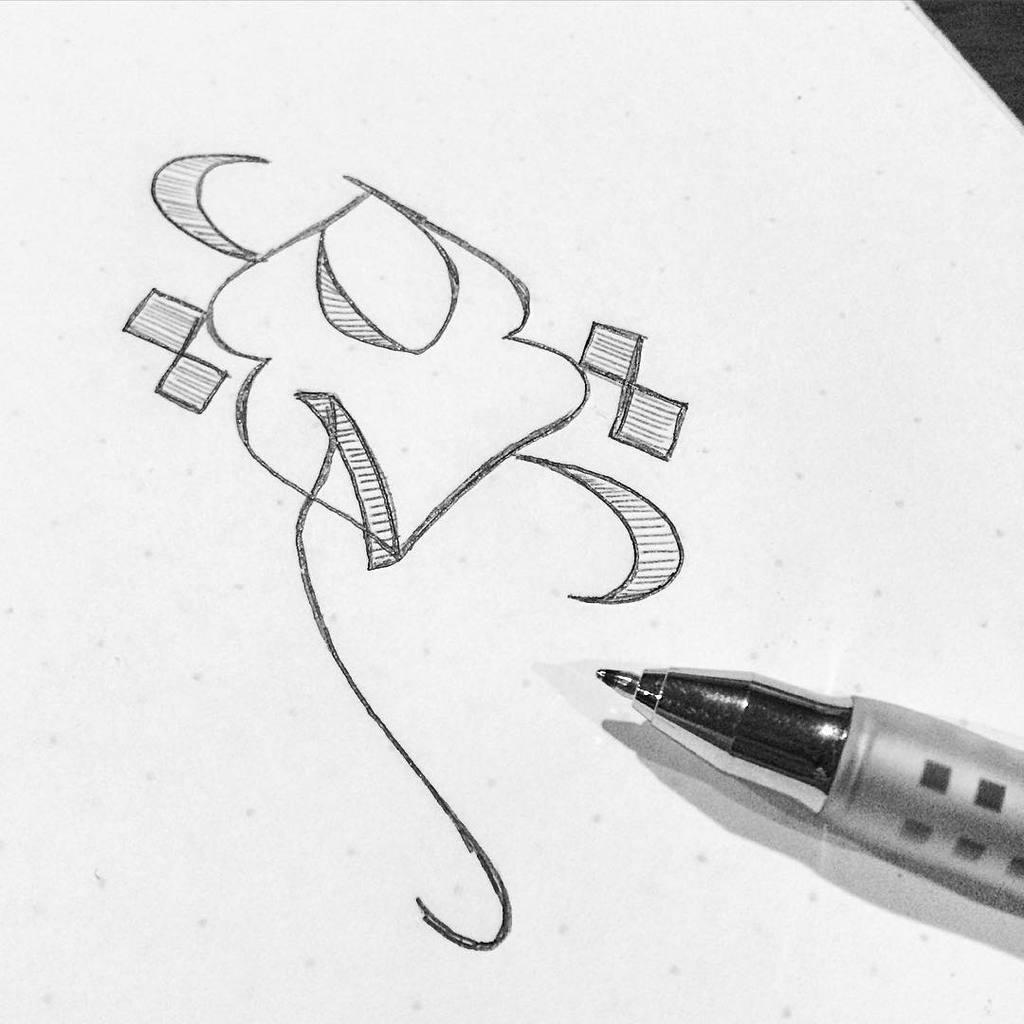pen: (588, 668, 1023, 905)
